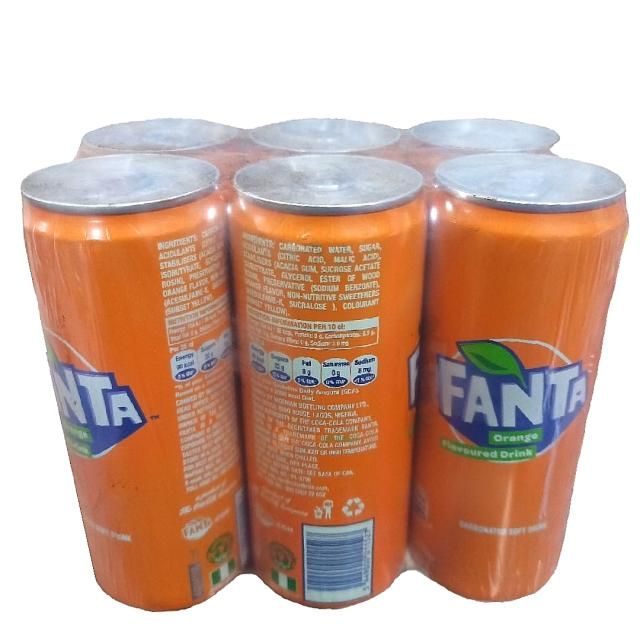fanta: (21, 158, 234, 615), (419, 158, 600, 616), (235, 157, 417, 609)
